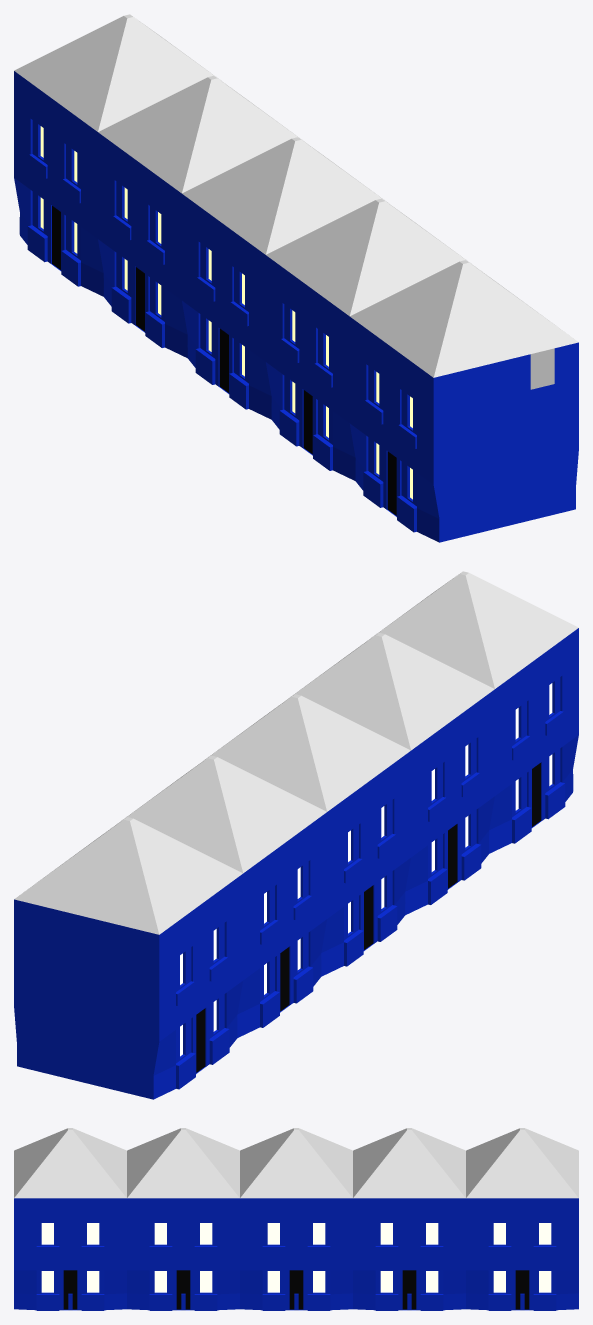
The model's file is two_storey_house_1.fbx.
3 views of the same model, one above another, from view 1: azimuth 30°, elevation 25°; view 2: azimuth 150°, elevation 25°; view 3: azimuth 270°, elevation 25° (orthographic). The views are drawn at different scales.
Parts seen in each view (by area): view 1: Cube; view 2: Cube; view 3: Cube.
Boxes of the visible parts, box(x1,y1,x2,y2) form: Cube: box(14, 14, 578, 542); Cube: box(14, 571, 578, 1099); Cube: box(14, 1128, 578, 1310).
Bounding box in the file's own units: 19.95 × 29.63 × 96.5.
